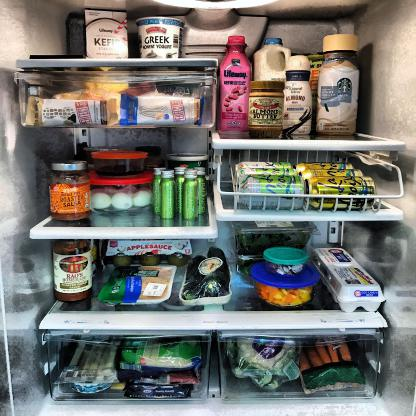carrot: (306, 345, 324, 368), (298, 354, 310, 383), (317, 342, 331, 364), (338, 340, 350, 362), (330, 343, 339, 363)
chicken: (105, 268, 173, 301)
cucumber: (205, 249, 229, 296), (188, 256, 204, 297)
eggs: (326, 264, 380, 312), (112, 192, 134, 208), (93, 192, 112, 209), (133, 190, 151, 207)
milk: (253, 37, 286, 82)
yoghurt: (135, 18, 183, 58)
